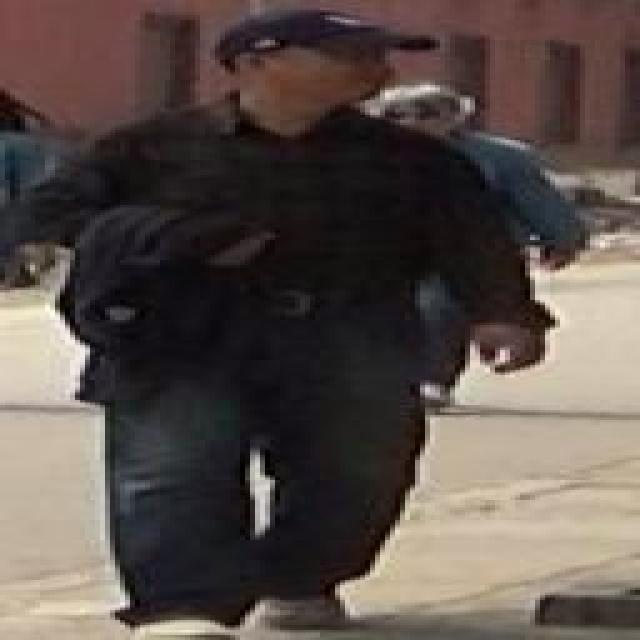adult: (55, 15, 550, 640)
